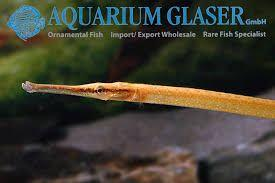Long-Snouted Pipefish: (22, 74, 275, 130)
